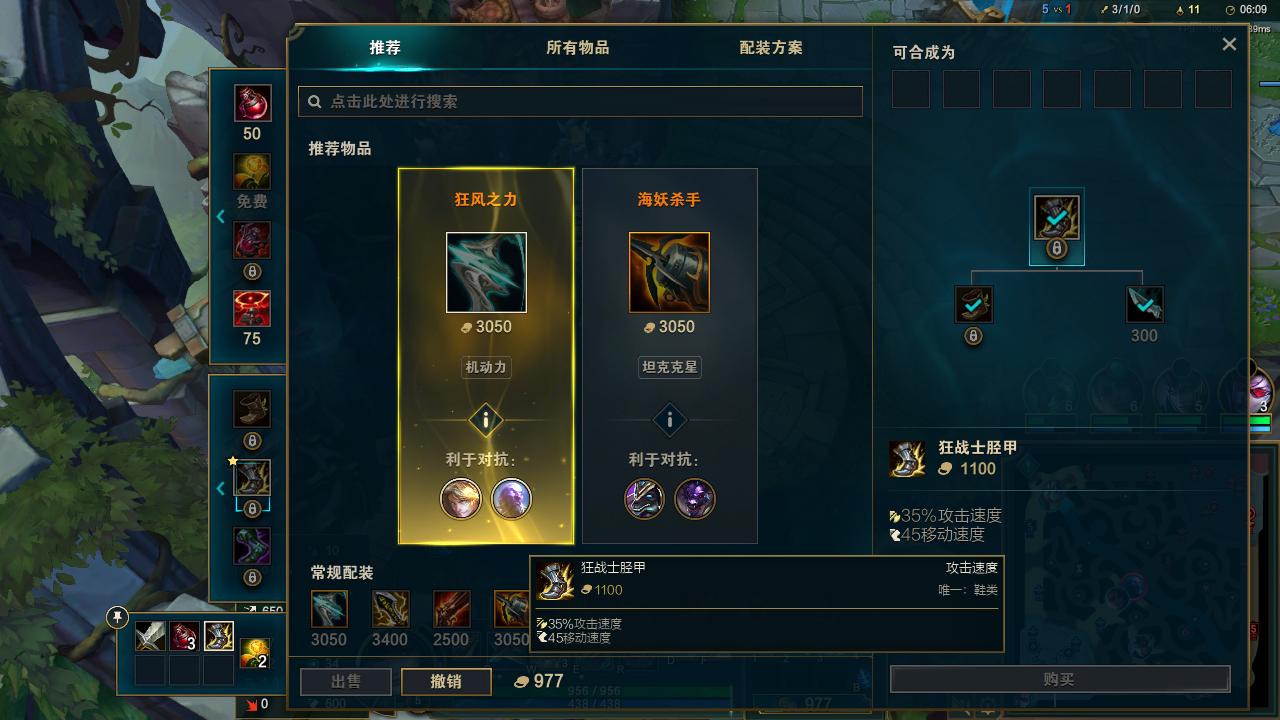GTH: (616, 399, 716, 434)
TJJM: (336, 34, 435, 76)
